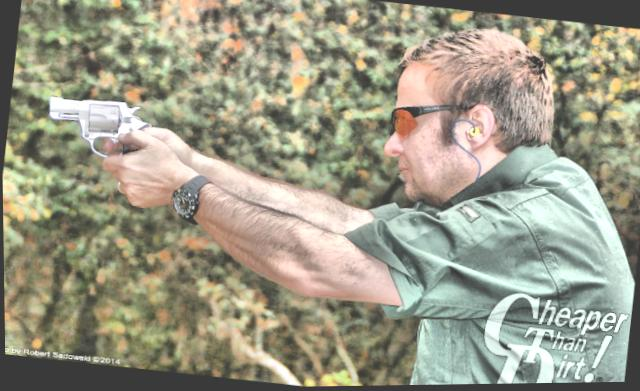pistol: (39, 83, 158, 180)
